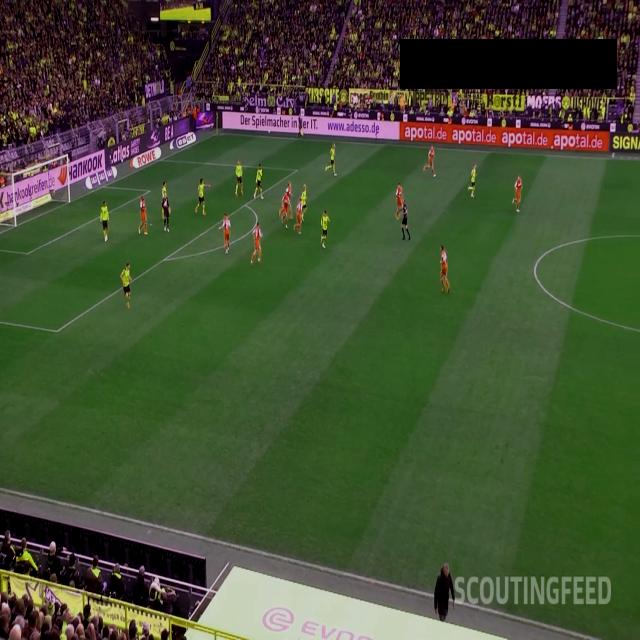ball: (268, 128, 272, 140)
f_player: (252, 217, 266, 274), (121, 262, 135, 310), (438, 244, 451, 294), (279, 184, 293, 228), (220, 212, 232, 254), (318, 212, 331, 248), (98, 204, 110, 242), (138, 194, 148, 234), (196, 180, 207, 215), (235, 160, 245, 197), (468, 163, 478, 199), (514, 177, 524, 212), (424, 147, 436, 176), (256, 164, 266, 198), (330, 144, 338, 174), (395, 183, 402, 217), (160, 180, 168, 197)
umpire: (400, 200, 412, 242), (162, 195, 172, 242)
